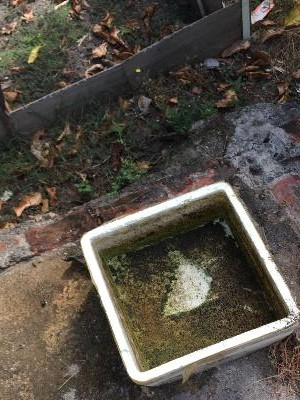styrofoam: (78, 181, 297, 388)
